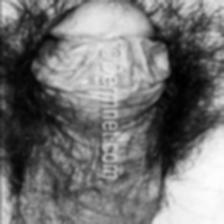Toxin: (50, 19, 96, 88), (114, 12, 144, 44)
